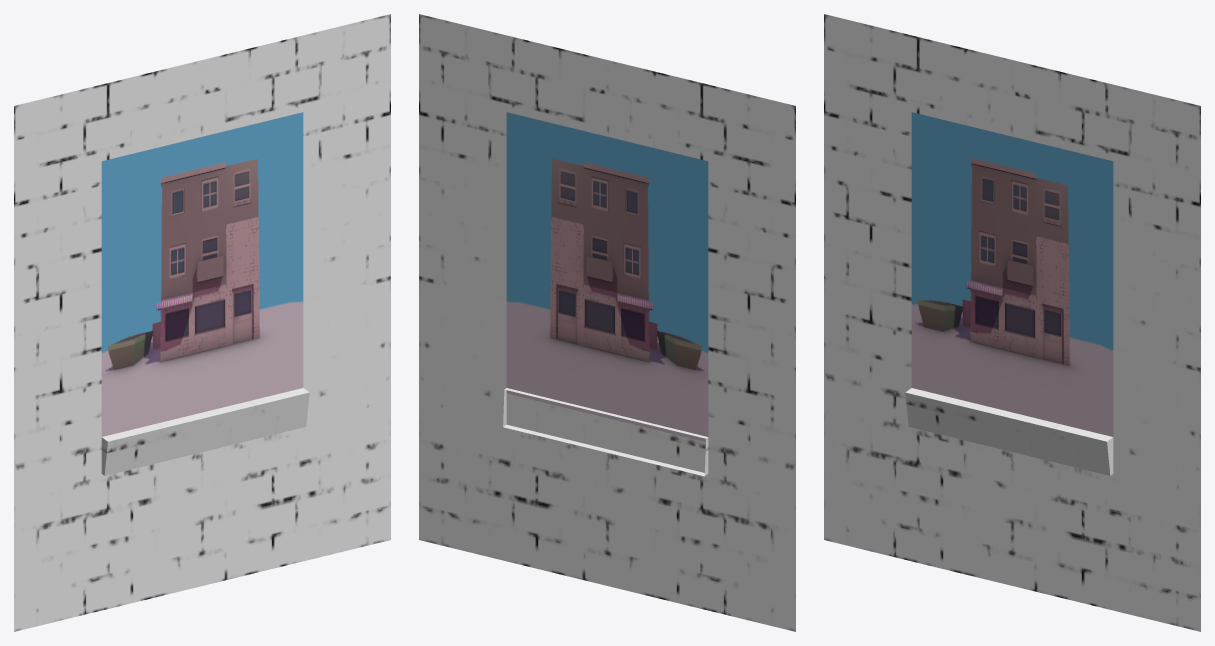
The model's file is Window3.fbx.
3 views of the same model, side by side, from view 1: azimuth 30°, elevation 25°; view 2: azimuth 150°, elevation 25°; view 3: azimuth 330°, elevation 25° (orthographic).
Visible parts, largest first — view 1: Plane.002; view 2: Plane.002; view 3: Plane.002.
Part boxes in pixels (x1,y1,x2,y2): Plane.002: (14, 14, 390, 631); Plane.002: (419, 14, 795, 631); Plane.002: (824, 14, 1200, 631).
Bounding box in the file's own units: 150 × 200 × 6.81.
